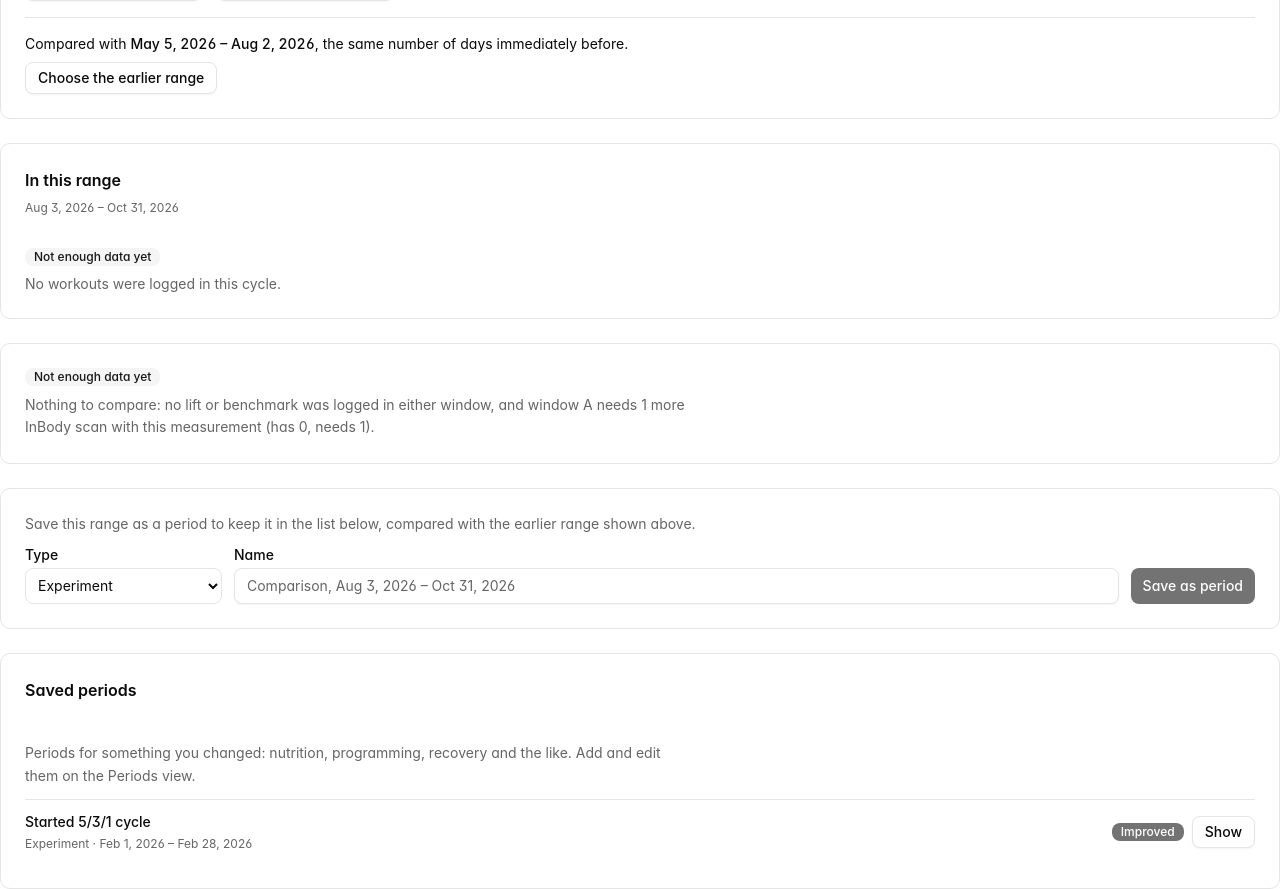
Test: CompareTab — saved ranges › fills the range in from an experiment and shows its verdict, compared with all earlier history
The image size is (1280, 889).
(page scrolled)
Click the button named "Show \"Started 5/3/1 cycle\"".
click(1223, 832)  # box top-left (1192, 816), bottom-right (1255, 848)
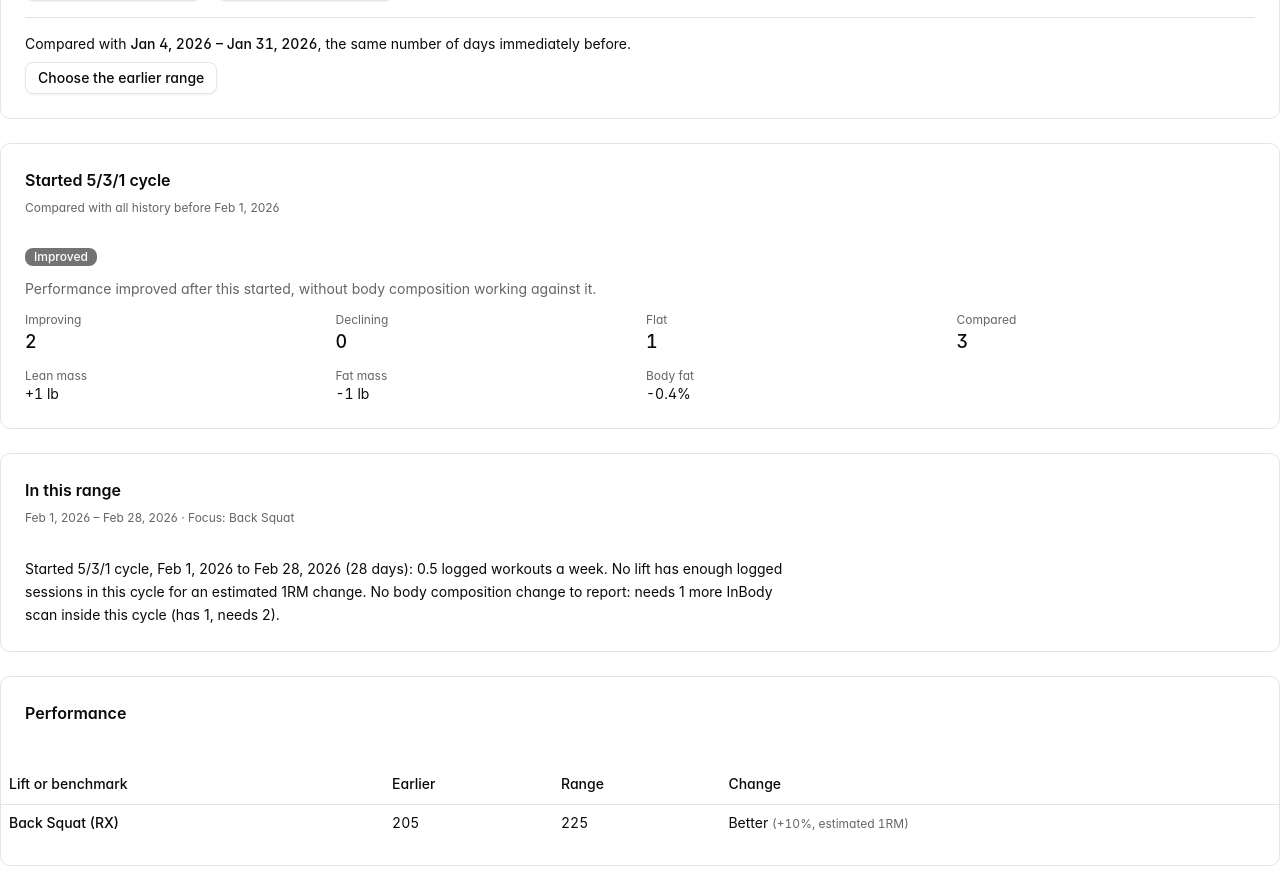
Now the text "all history before Feb 1, 2026" is shown, box top-left (115, 200), bottom-right (280, 214)
Now the text "Performance improved after this started, without body composition working against it." is shown, box top-left (25, 280), bottom-right (596, 296)
Now the text "Started 5/3/1 cycle" is shown once, box top-left (25, 170), bottom-right (170, 190)
